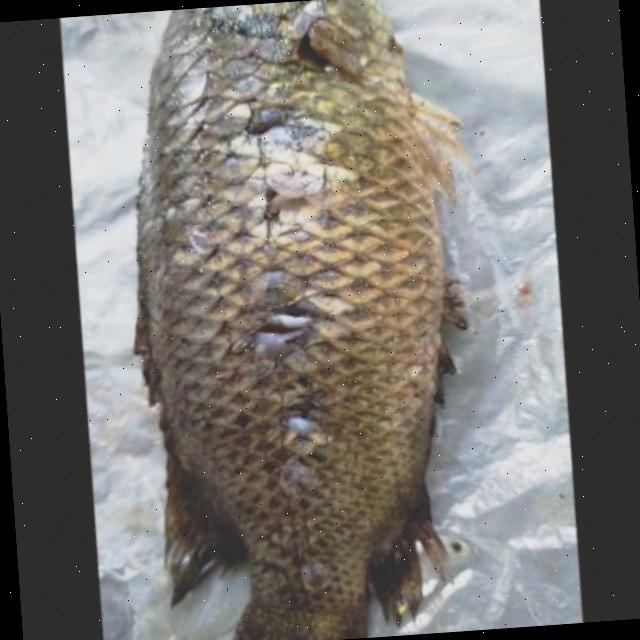Columnaris Disease: (136, 0, 463, 640)
